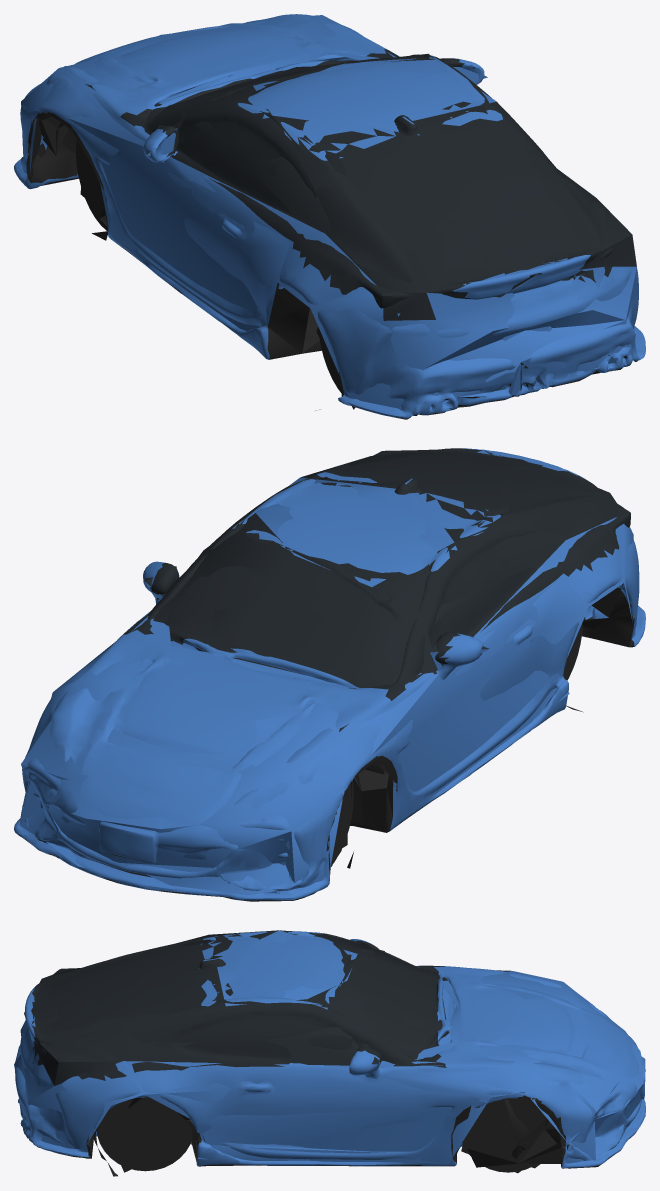
The model's file is subaru-brz.glb.
3 renders of one model, top to bottom at view 1: azimuth 30°, elevation 25°; view 2: azimuth 150°, elevation 25°; view 3: azimuth 270°, elevation 25°, orthographic. The views are drawn at different scales.
Parts seen in each view (by area): view 1: body, far; view 2: body, far; view 3: body, far.
Part boxes in pixels (box(x1,y1,x2,y2)): body: box(14, 14, 645, 419); far: box(21, 15, 636, 409); body: box(14, 448, 645, 901); far: box(19, 450, 635, 895); body: box(15, 931, 645, 1176); far: box(14, 930, 643, 1173).
Size of the model in its own units: 2.05 by 1.33 by 4.28.
